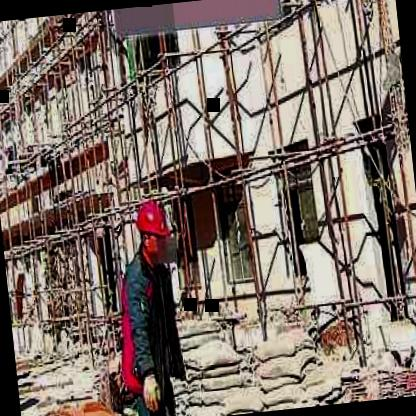helmet: (129, 194, 174, 266)
